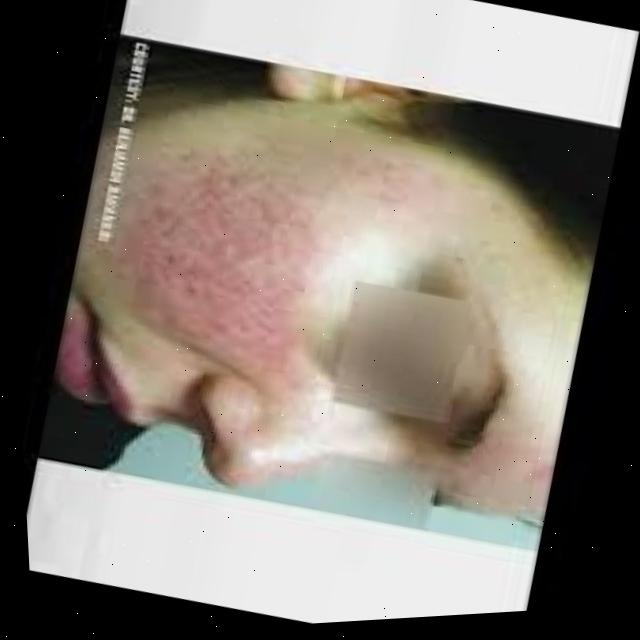Rosacea: (113, 149, 351, 364)
